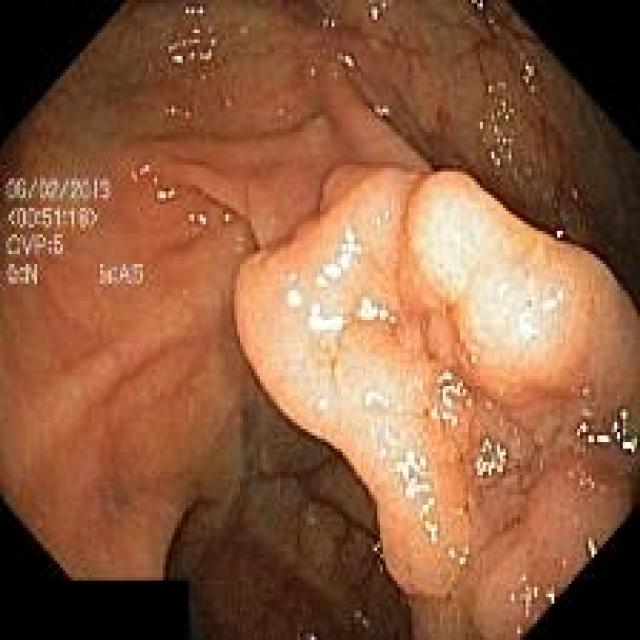Polyps: (235, 167, 640, 640)
